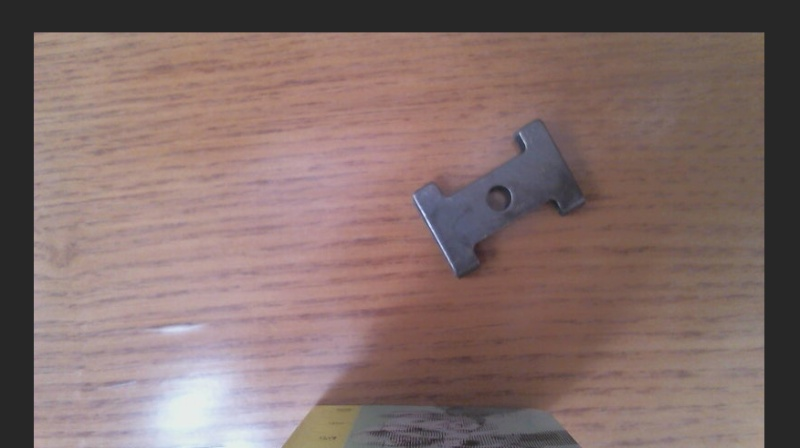O002: (405, 114, 590, 281)
